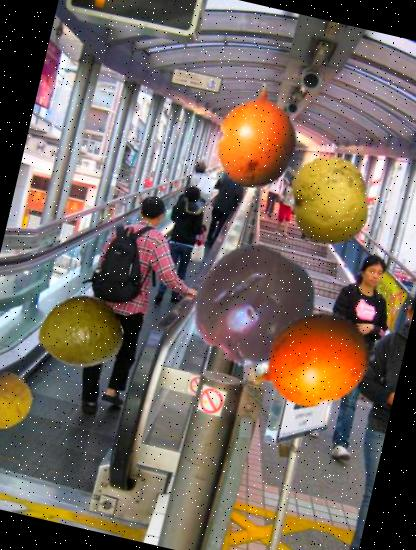Apple: (276, 148, 383, 255)
Granadilla: (224, 280, 386, 442), (194, 72, 321, 199)
Guava: (29, 282, 130, 382)
Lemon: (0, 362, 40, 439)
Passion: (178, 232, 328, 383)
